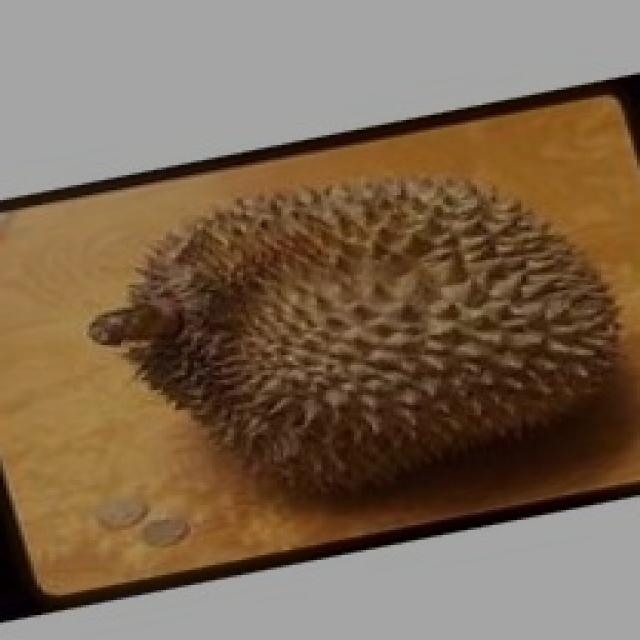fruit: (255, 148, 640, 528), (77, 175, 431, 533)
